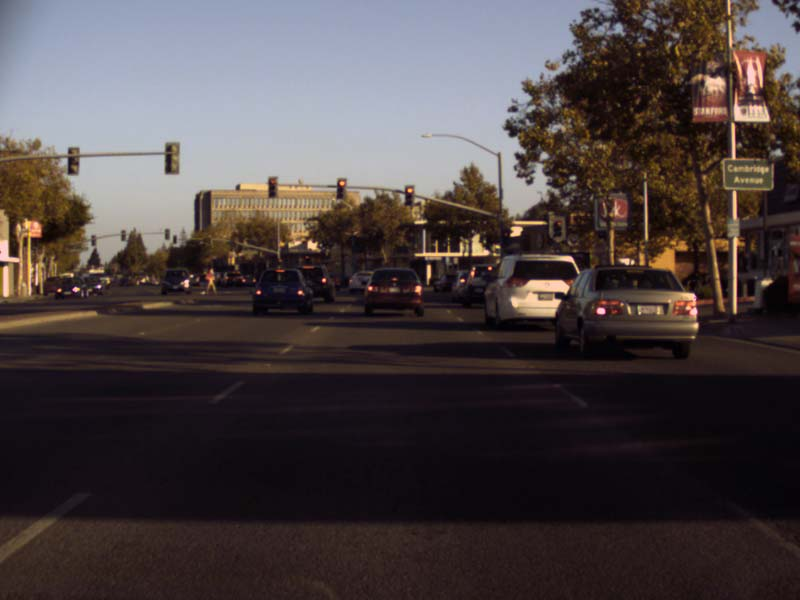Red: (268, 177, 278, 196), (336, 178, 344, 200), (552, 220, 561, 237), (405, 186, 412, 204), (502, 229, 508, 245), (304, 255, 309, 259), (277, 259, 282, 262)
